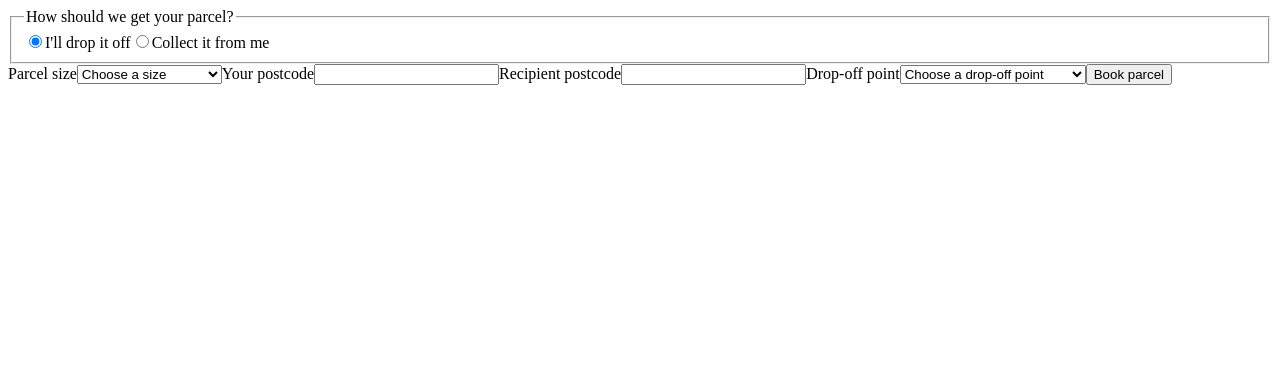
Test: BookingForm › shows errors and does not submit an invalid booking
Type "not a postcode" into the field labelled "Your postcode".
click(406, 74); type("not a postcode")  # box [314, 64, 499, 85]
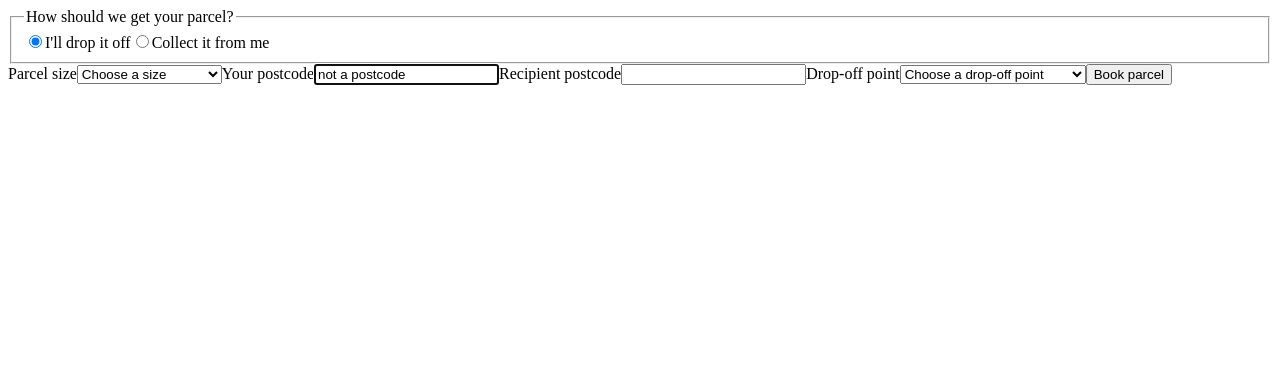
Click the button "Book parcel".
click(1129, 74)  # box [1086, 64, 1172, 85]
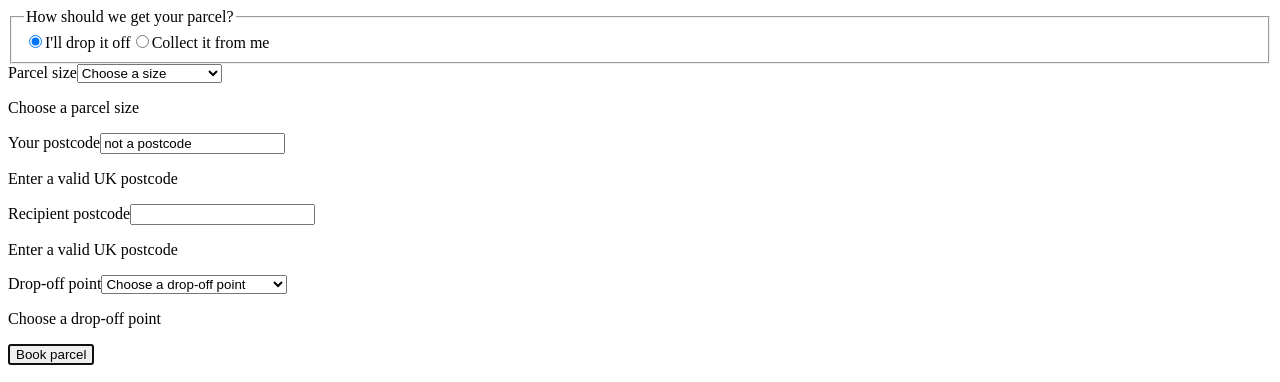
Now the 1st message "Enter a valid UK postcode" is shown, box [8, 170, 178, 187]
